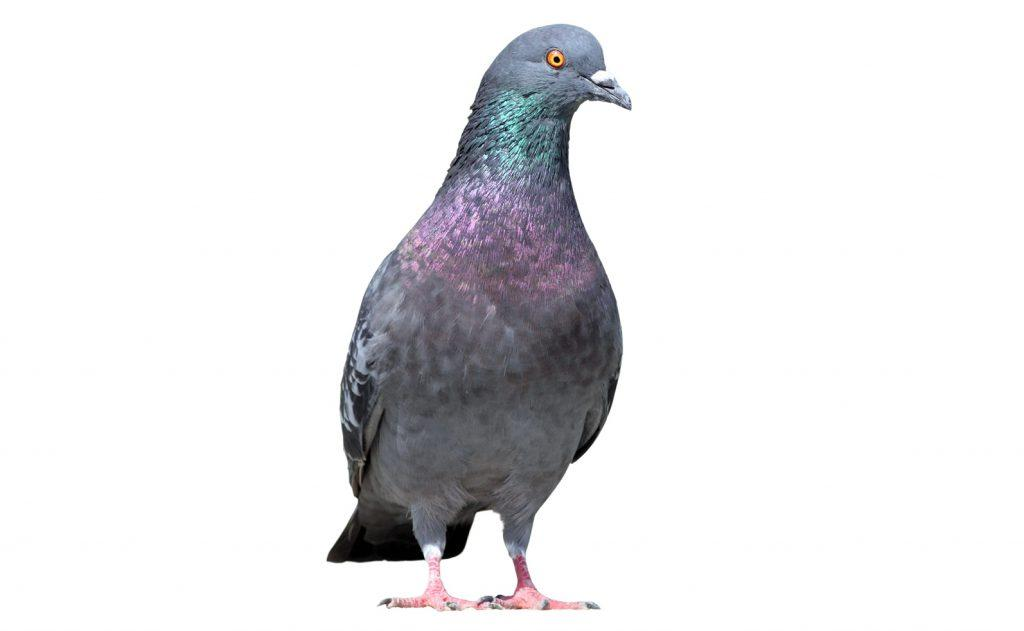Flying Rat: (344, 5, 640, 613)
